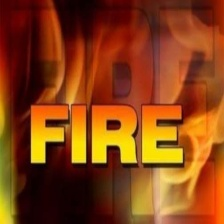fire: (13, 2, 213, 100)
